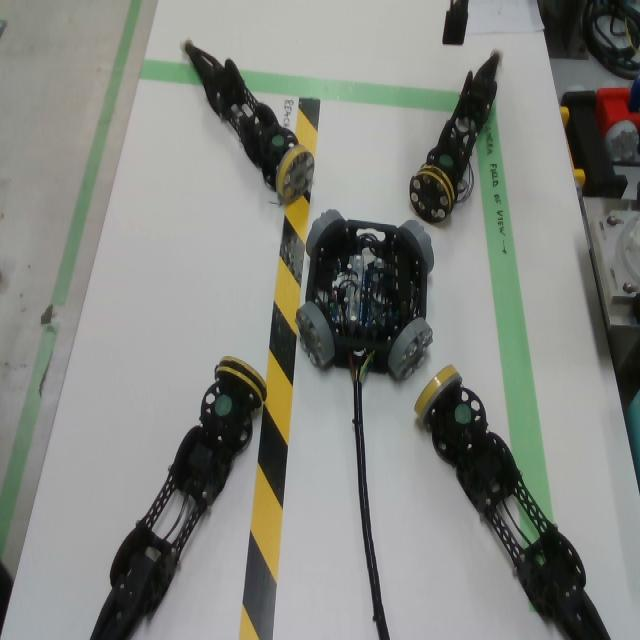body: (306, 220, 427, 372)
body_connector: (388, 317, 433, 381), (296, 301, 335, 367), (305, 208, 345, 257), (399, 220, 435, 273)
leg: (413, 363, 612, 640), (89, 357, 267, 640), (178, 35, 315, 205), (410, 47, 505, 224)
leg_connector: (414, 364, 462, 427), (214, 356, 268, 408), (409, 164, 455, 224), (275, 145, 315, 204)
leg_marker: (214, 395, 232, 416), (455, 403, 471, 425), (439, 153, 453, 167), (271, 135, 284, 147)
